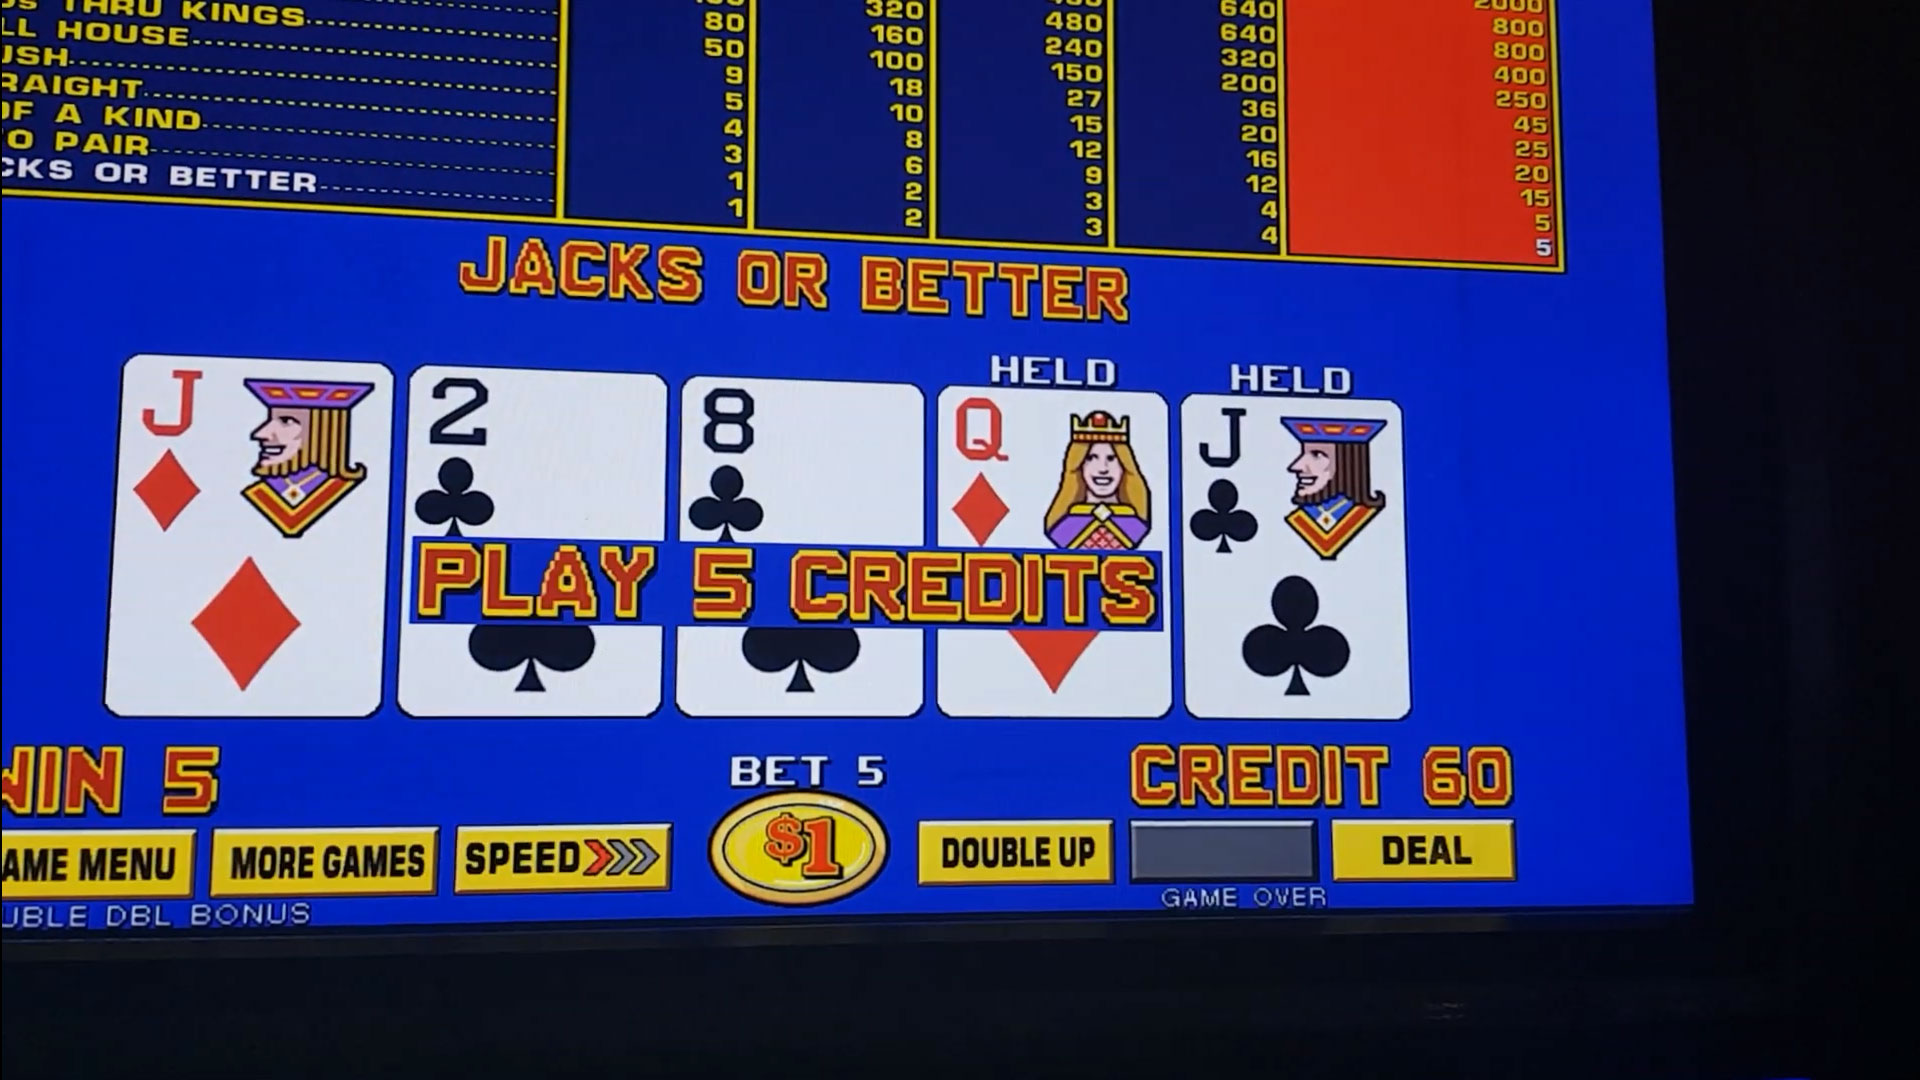C2: (413, 378, 659, 533)
C8: (684, 392, 920, 537)
CJ: (1185, 400, 1396, 568)
DJ: (131, 371, 385, 539)
DQ: (939, 396, 1166, 550)
